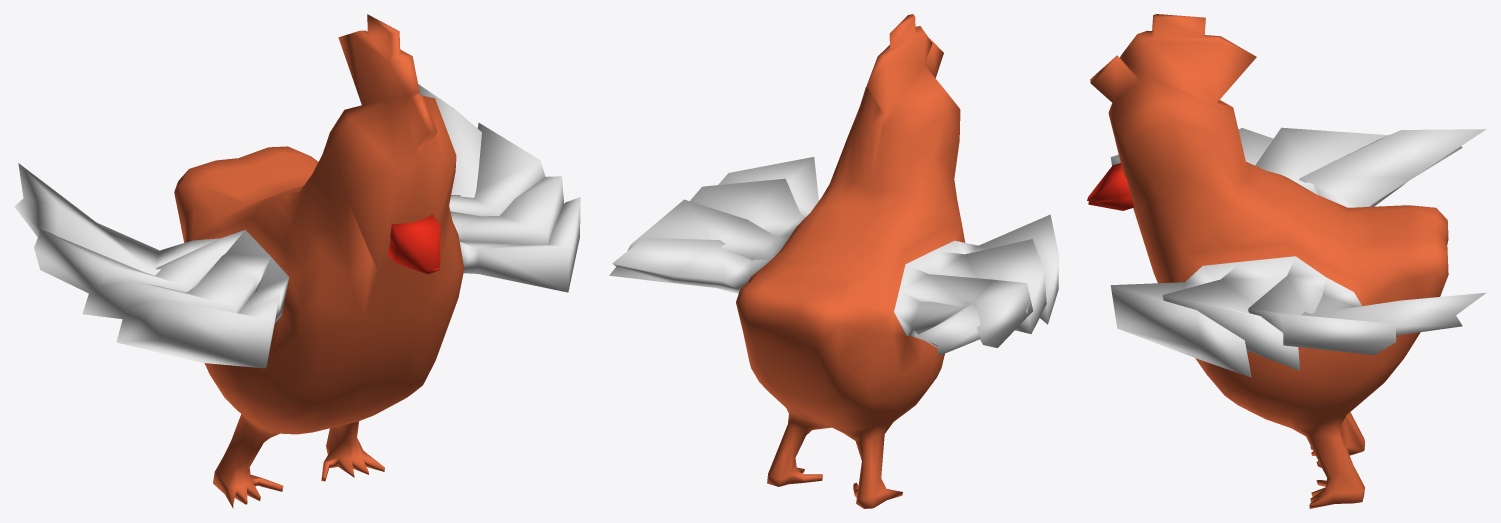
The model's file is Chicken.fbx.
3 renders of one model, left to right at view 1: azimuth 30°, elevation 25°; view 2: azimuth 150°, elevation 25°; view 3: azimuth 270°, elevation 25°, orthographic. The views are drawn at different scales.
Parts seen in each view (by area): view 1: Chicken; view 2: Chicken; view 3: Chicken.
Part boxes in pixels (x1=…): Chicken: x1=14, y1=14, x2=580, y2=508; Chicken: x1=609, y1=14, x2=1058, y2=508; Chicken: x1=1087, y1=14, x2=1486, y2=508.
Size of the model in its own units: 0.5734 by 0.6196 by 0.4846.
